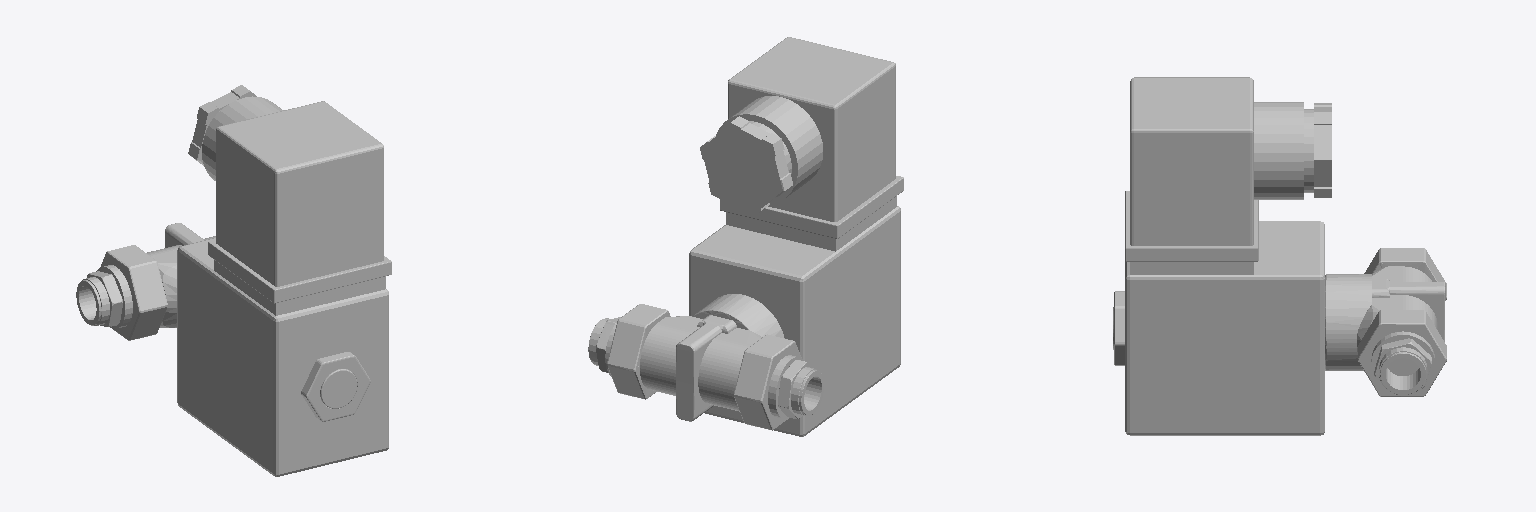
Rendered from plc_low.obj.
3 renders of one model, left to right at view 1: azimuth 30°, elevation 25°; view 2: azimuth 150°, elevation 25°; view 3: azimuth 270°, elevation 25°, orthographic.
Visible parts, largest first — view 1: PLC1.028_plc1.033, Cube.051_Cube.068, Cylinder.084_Cylinder.111; view 2: PLC1.028_plc1.033, Cube.051_Cube.068, Cylinder.084_Cylinder.111, Cylinder.085_Cylinder.112; view 3: PLC1.028_plc1.033, Cube.051_Cube.068, Cylinder.085_Cylinder.112.
Boxes of the visible parts, x1,y1,x2,y2 form: PLC1.028_plc1.033: [177, 85, 391, 476]; Cube.051_Cube.068: [101, 223, 215, 340]; Cylinder.084_Cylinder.111: [76, 265, 132, 328]; PLC1.028_plc1.033: [689, 37, 903, 436]; Cube.051_Cube.068: [607, 294, 801, 430]; Cylinder.084_Cylinder.111: [768, 355, 823, 418]; Cylinder.085_Cylinder.112: [588, 317, 620, 375]; PLC1.028_plc1.033: [1113, 77, 1331, 435]; Cube.051_Cube.068: [1325, 248, 1446, 396]; Cylinder.085_Cylinder.112: [1371, 331, 1434, 394].
Size of the model in its own units: 0.5549 by 0.76 by 0.7524.